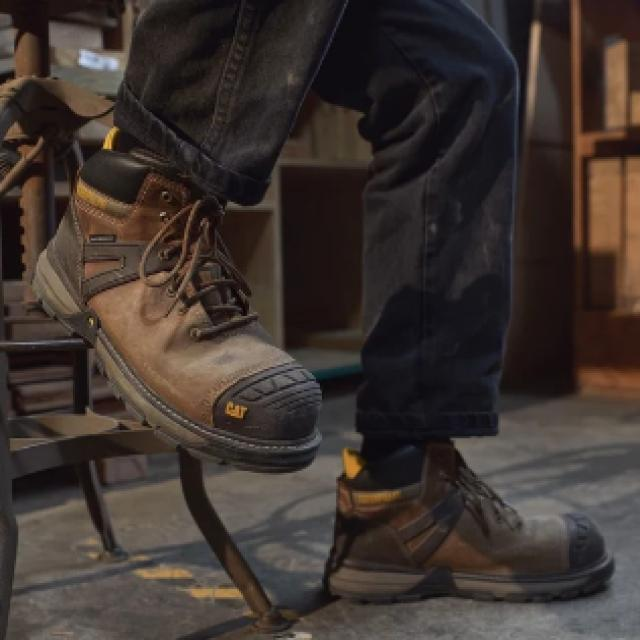shoes: (25, 116, 619, 616)
